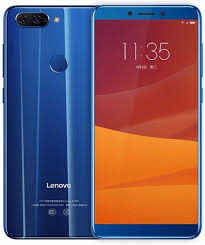lenovo: (89, 4, 205, 241), (1, 1, 93, 242)
